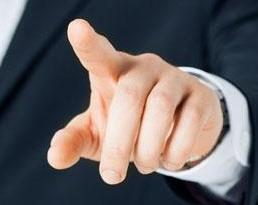up: (40, 15, 224, 188)
